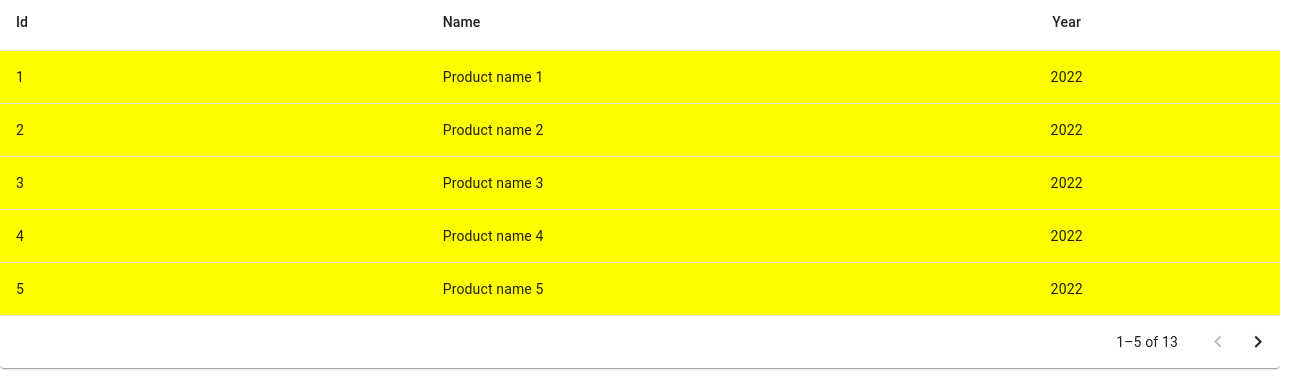
Test: check if next page button shows next set of products
This screenshot has width=1292, height=387.
Click the button named "go to next page" at (1258, 342), box [1238, 322, 1278, 362]
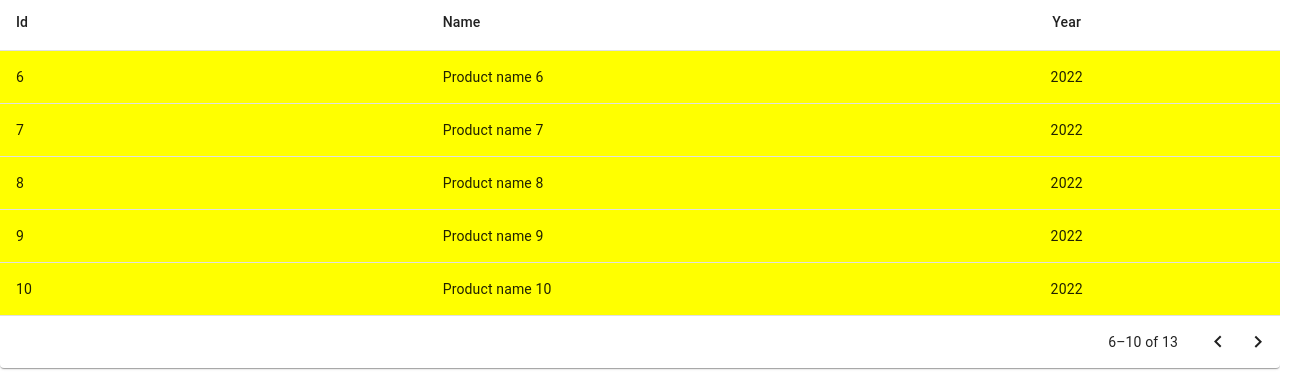
Now the text "6–10 of 13" is shown, box [1108, 332, 1178, 352]
Now the row "10 Product name 10 2022" is shown, box [0, 263, 1280, 316]
